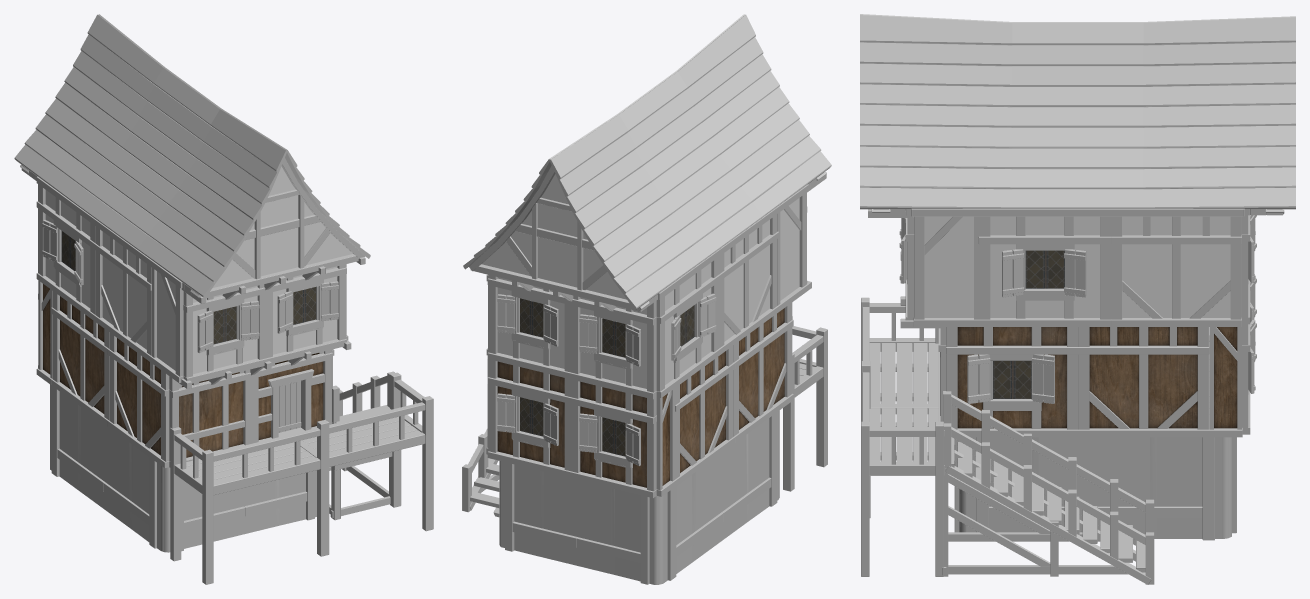
File: House_1A13.fbx
3 views of the same model, side by side, from view 1: azimuth 30°, elevation 25°; view 2: azimuth 150°, elevation 25°; view 3: azimuth 270°, elevation 25° (orthographic). The views are drawn at different scales.
Visible parts, largest first — view 1: House_1A13, Cube.2362, Plane.322, Plane.323; view 2: House_1A13, Plane.318, Plane.319, Plane.320, Plane.321, Plane.388; view 3: House_1A13, Plane.324, Plane.325.
Boxes of the visible parts, x1,y1,x2,y2 form: House_1A13: [14, 14, 433, 584]; Cube.2362: [278, 380, 301, 432]; Plane.322: [213, 306, 236, 344]; Plane.323: [293, 287, 315, 324]; House_1A13: [462, 14, 831, 584]; Plane.318: [602, 417, 625, 456]; Plane.319: [520, 397, 543, 436]; Plane.320: [602, 318, 625, 357]; Plane.321: [520, 298, 543, 337]; Plane.388: [680, 305, 694, 346]; House_1A13: [860, 14, 1295, 584]; Plane.324: [1025, 250, 1064, 288]; Plane.325: [993, 361, 1031, 398].
Bounding box in the file's own units: 1061 × 1805 × 1461.
